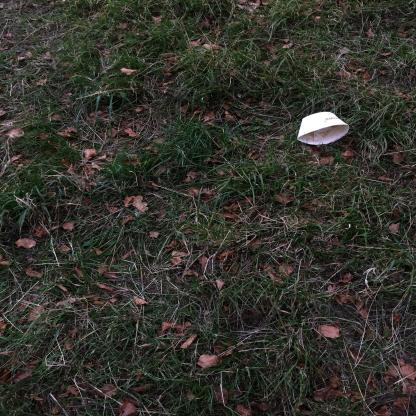trash: (289, 104, 356, 153)
